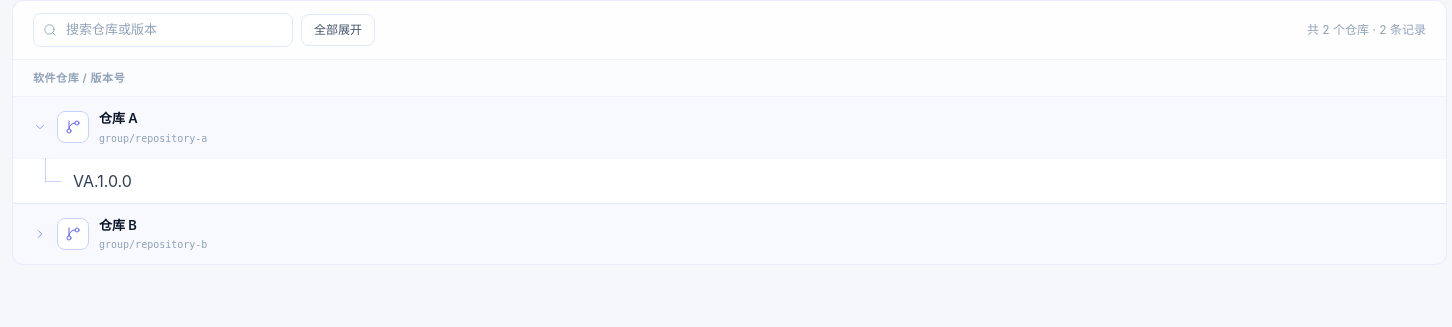
Test: RepositoryTreeTable › 支持手动展开仓库和全部折叠
Click the button "仓库 B group/repository-b" at [73, 234], box top-left (13, 204), bottom-right (1446, 264)
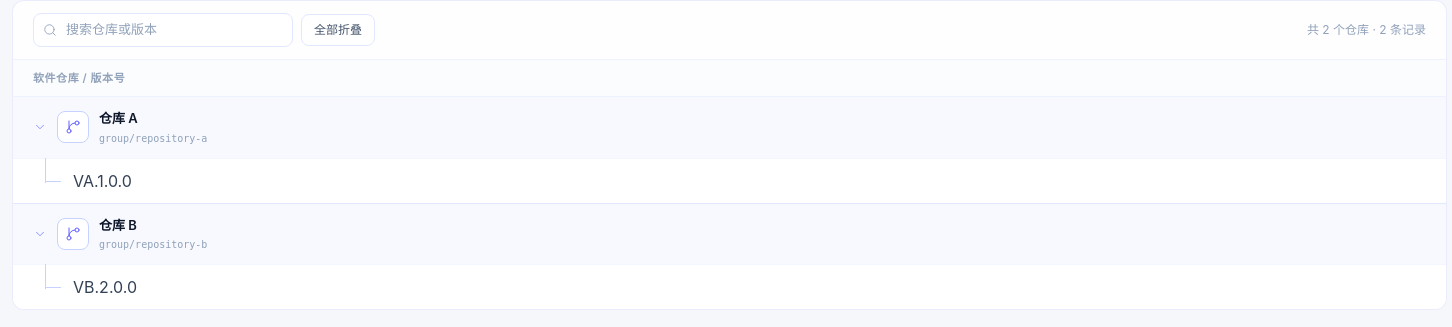
Expected: the text "VB.2.0.0" is shown, top-left (73, 277), bottom-right (137, 297)
Click the button "全部折叠" at [338, 30], box top-left (301, 14), bottom-right (375, 46)
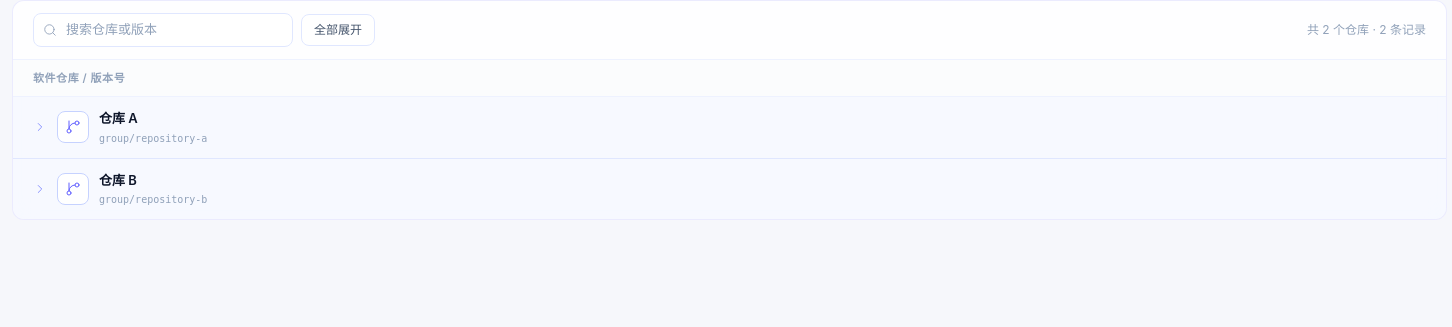
Expected: no buttons "VA.1.0.0" are shown
Expected: no buttons "VB.2.0.0" are shown
